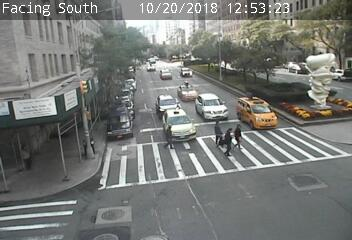car: (236, 96, 276, 129), (163, 110, 191, 133), (199, 95, 222, 118), (157, 94, 177, 111), (178, 85, 195, 99), (158, 67, 171, 80), (179, 65, 193, 77), (148, 63, 156, 71)
